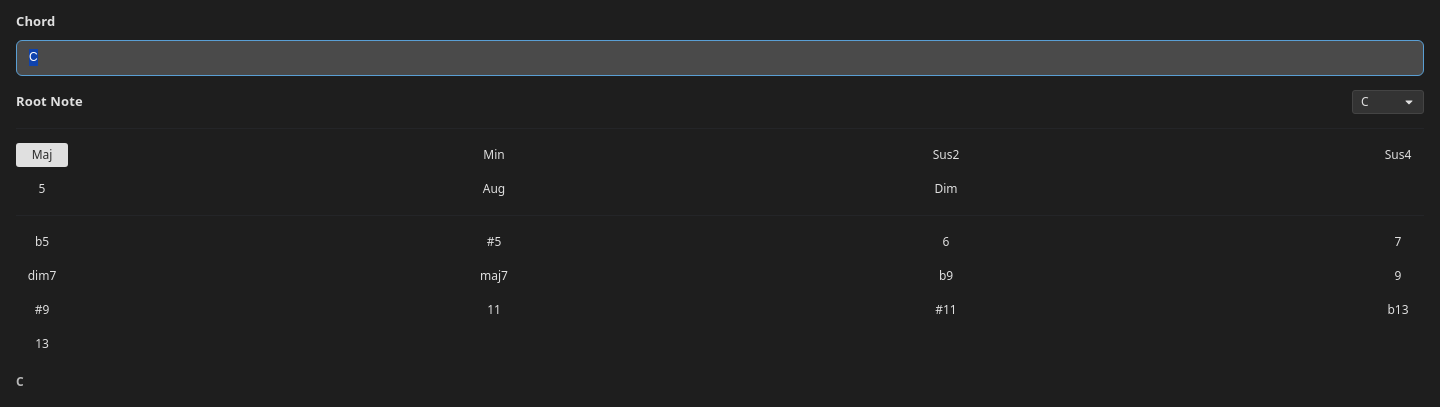
Scenario: ChordPickerPopup › shows an inline error for invalid text without mutating the region
Replace the text in the field with "invalid" at x=720, y=58, box [16, 40, 1424, 76]
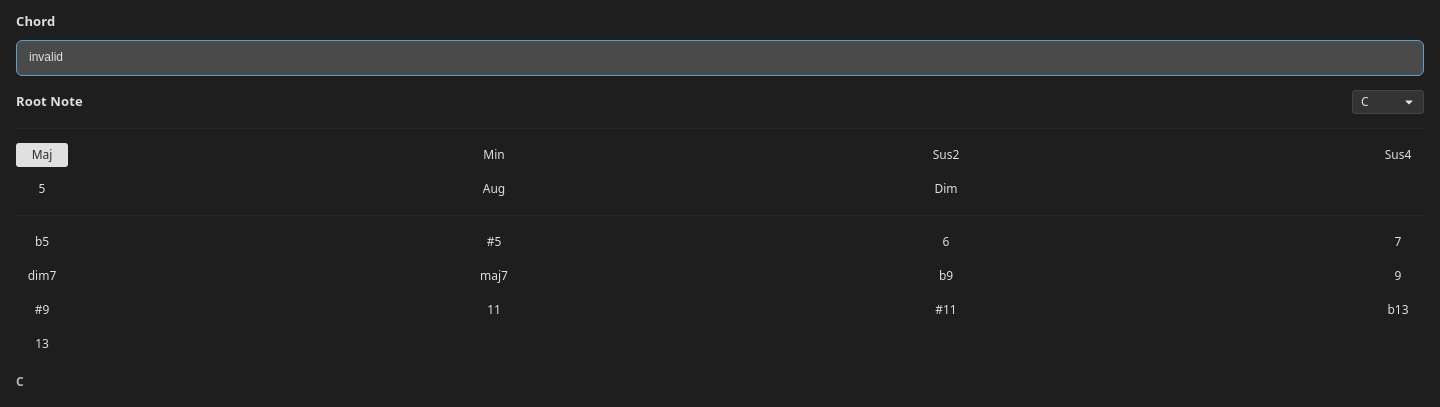
Press Enter in the field, box [16, 40, 1424, 76]
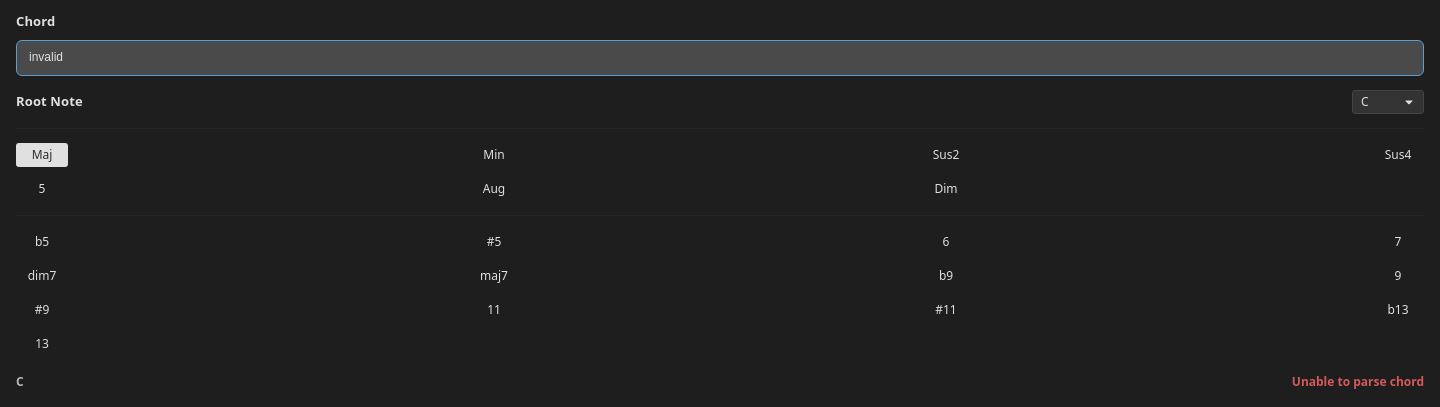
Expected: the text "Unable to parse chord" is shown, [1292, 372, 1424, 390]
